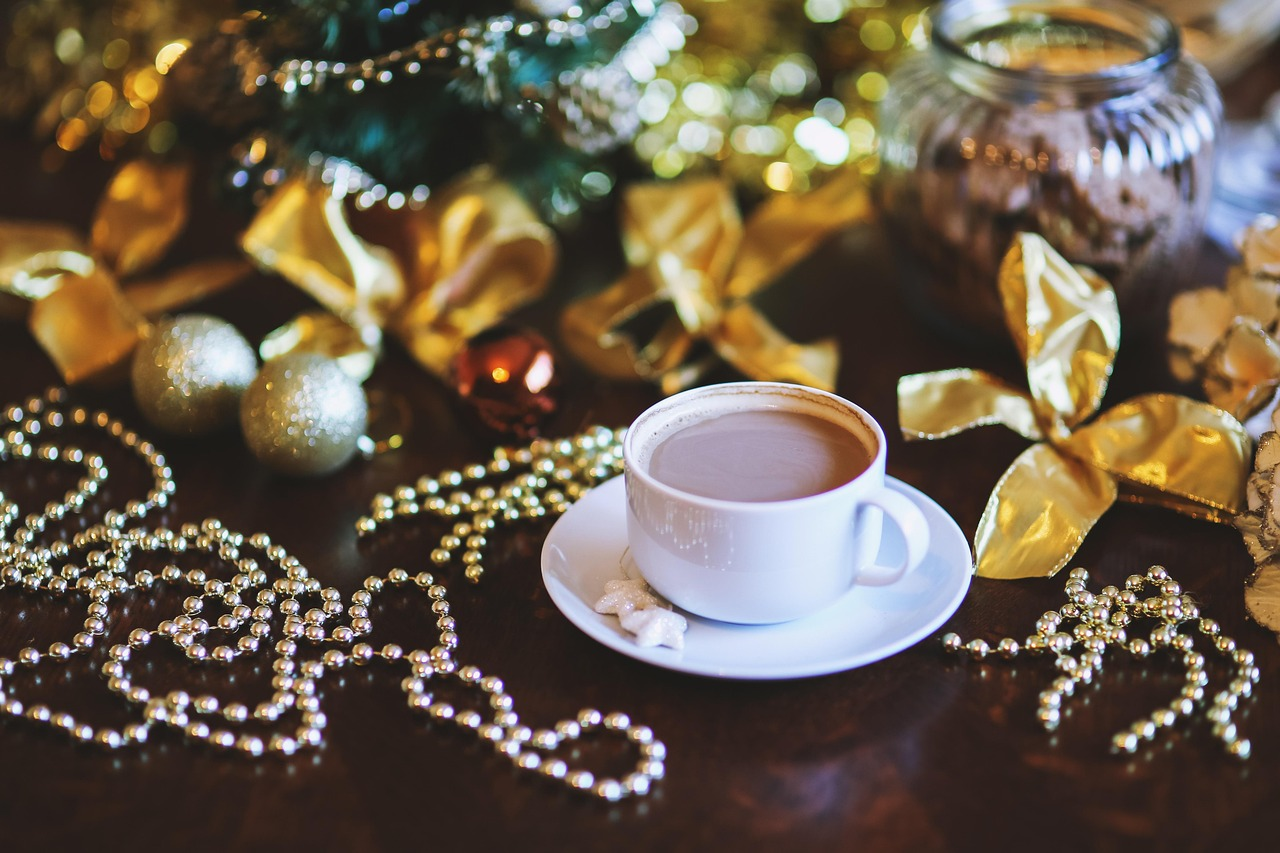mug: (609, 369, 919, 636)
